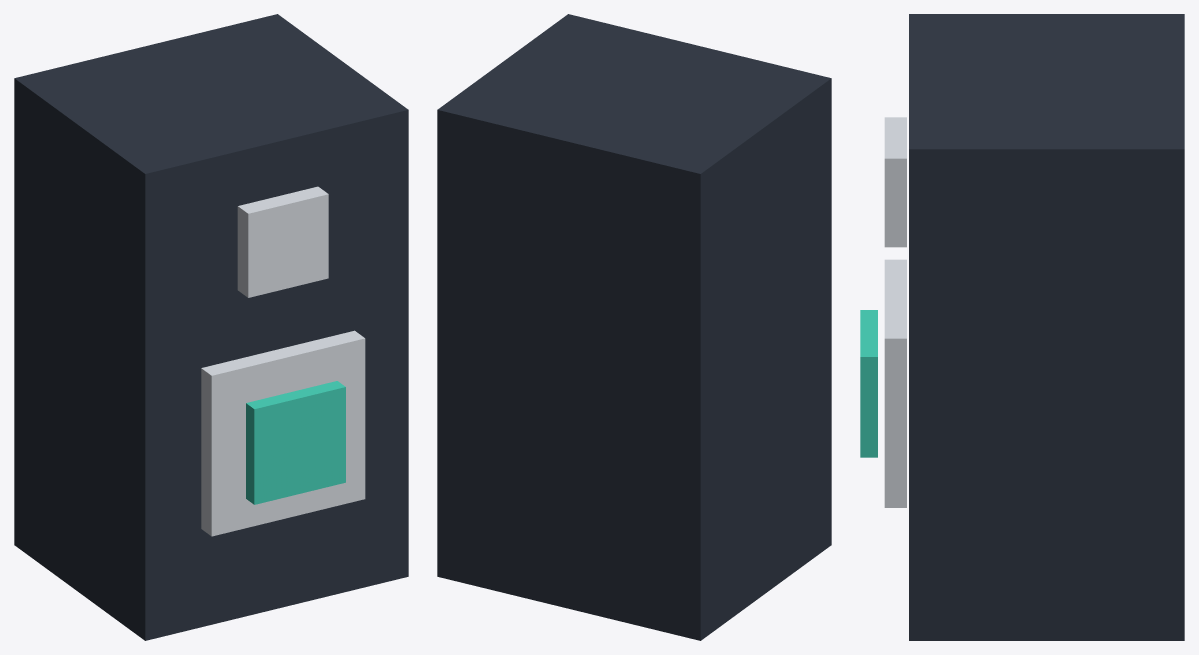
Rendered from speaker.glb.
The picture shows the model from 3 angles, left to right: view 1: azimuth 30°, elevation 25°; view 2: azimuth 150°, elevation 25°; view 3: azimuth 270°, elevation 25°; orthographic projection. The views are drawn at different scales.
Parts seen in each view (by area): view 1: speaker box, woofer, sound glow, tweeter; view 2: speaker box; view 3: speaker box, woofer, tweeter, sound glow.
Part boxes in pixels (x1,y1,x2,y2): speaker box: (14,14,408,640); woofer: (201,330,365,536); sound glow: (246,381,345,504); tweeter: (237,186,328,297); speaker box: (437,14,831,640); speaker box: (909,14,1184,640); woofer: (884,259,906,507); tweeter: (884,117,906,247); sound glow: (860,310,877,457).
Bounding box in the file's own units: 0.72 × 1.22 × 0.73.
